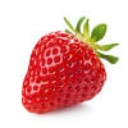strawberry: (22, 13, 118, 115)
